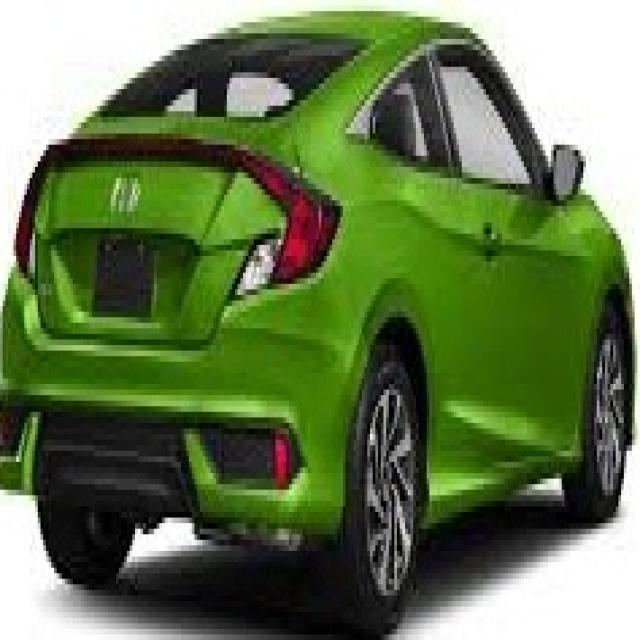green: (2, 10, 640, 640)
